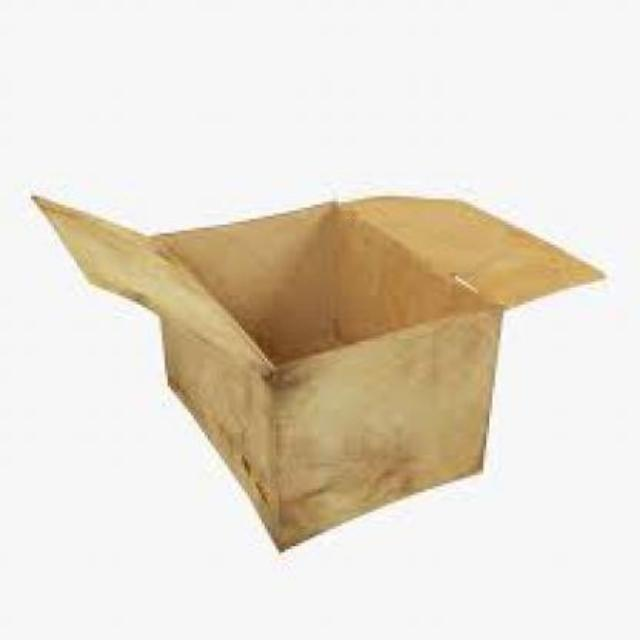cardboard_box: (32, 168, 606, 556)
